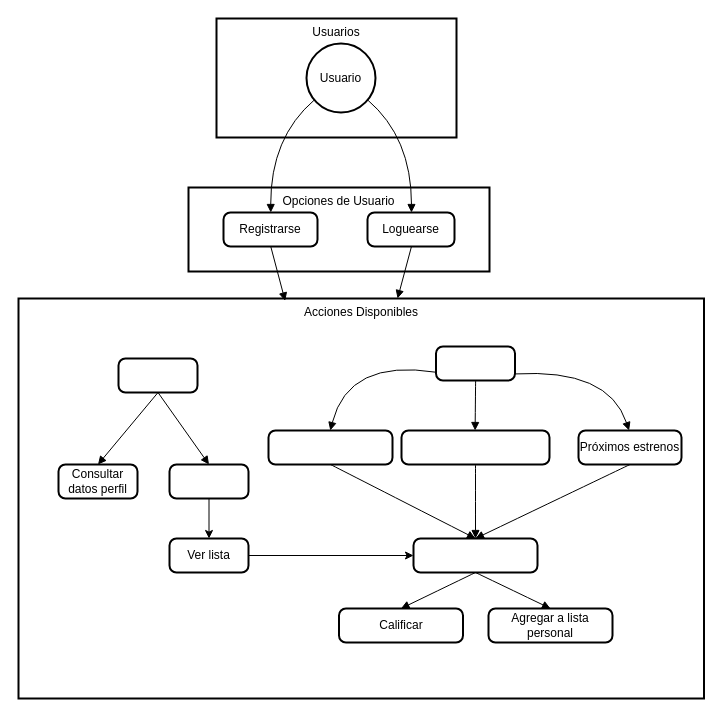
Image size: 722x716. Some labels were removed from this diagram. The shapes that lost their labels are listed below. From the top down, each one's centre as x and y in pixels, then its label:
At (x=157, y=375): "Ver perfil".
At (x=475, y=363): "Ver Listas".
At (x=330, y=447): "Lista personal".
At (x=475, y=447): "Mas populares".
At (x=208, y=481): "Ver usuarios".
At (x=475, y=555): "Ver detalles".
